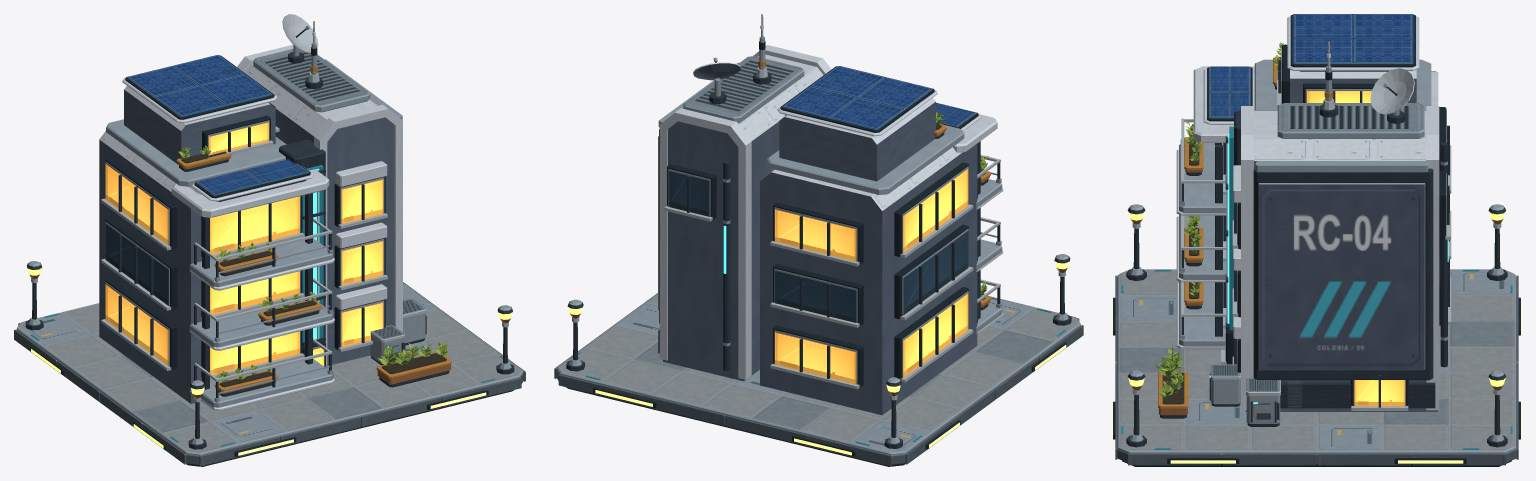
The model's file is N4_ResidencialColectivo.fbx.
3 views of the same model, side by side, from view 1: azimuth 30°, elevation 25°; view 2: azimuth 150°, elevation 25°; view 3: azimuth 270°, elevation 25° (orthographic). The views are drawn at different scales.
Visible parts, largest first — view 1: N4_ResidencialColectivo; view 2: N4_ResidencialColectivo; view 3: N4_ResidencialColectivo.
Boxes of the visible parts, x1=… form: N4_ResidencialColectivo: x1=14, y1=14, x2=525, y2=466; N4_ResidencialColectivo: x1=554, y1=14, x2=1083, y2=466; N4_ResidencialColectivo: x1=1112, y1=14, x2=1521, y2=466.
Bounding box in the file's own units: 8.53 × 7.72 × 7.9.
